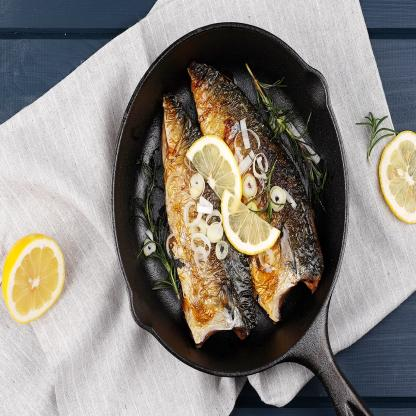Peixe: (210, 58, 318, 309), (170, 100, 248, 336)
